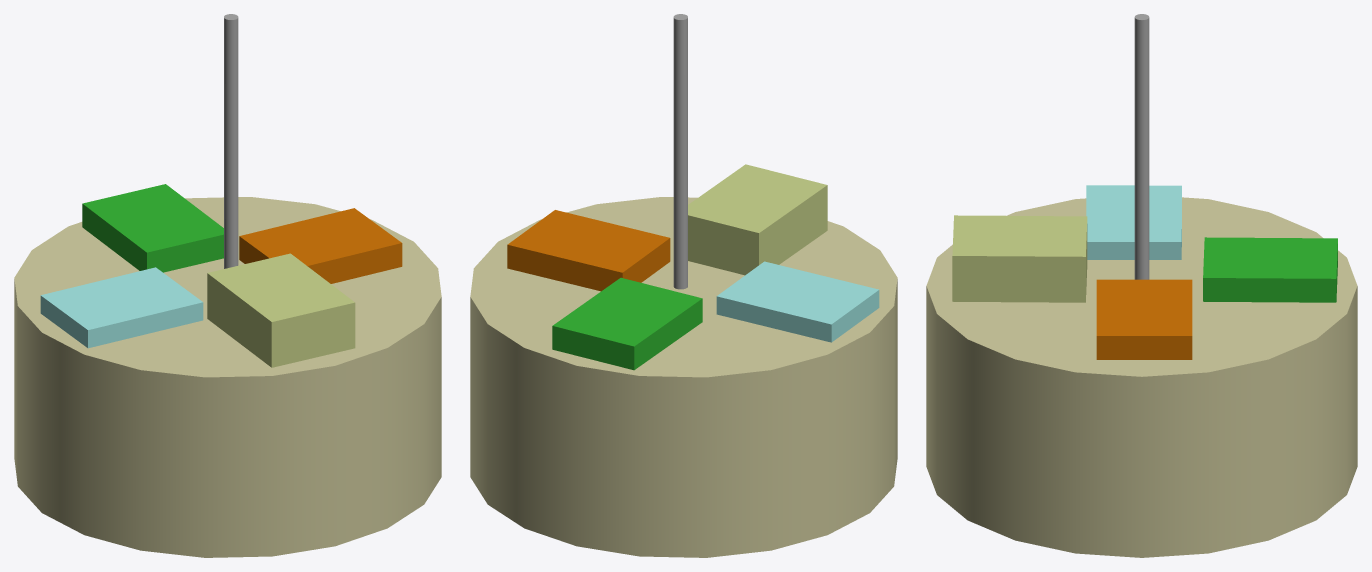
The model's file is Clothing Table 1.fbx.
The picture shows the model from 3 angles, left to right: view 1: azimuth 30°, elevation 25°; view 2: azimuth 150°, elevation 25°; view 3: azimuth 270°, elevation 25°; orthographic projection.
Visible parts, largest first — view 1: etale_sirculaire_vetement, pCube26, pCube24, pCube25, pCube23, pCylinder1; view 2: etale_sirculaire_vetement, pCube26, pCube24, pCube23, pCube25, pCylinder1; view 3: etale_sirculaire_vetement, pCube26, pCube24, pCube23, pCube25, pCylinder1.
Boxes of the visible parts, x1,y1,x2,y2 form: etale_sirculaire_vetement: [14, 197, 441, 557]; pCube26: [207, 253, 355, 367]; pCube24: [82, 184, 223, 272]; pCube25: [40, 267, 203, 348]; pCube23: [239, 208, 402, 283]; pCylinder1: [224, 14, 238, 268]; etale_sirculaire_vetement: [470, 197, 897, 557]; pCube26: [688, 164, 827, 275]; pCube24: [552, 277, 702, 370]; pCube23: [507, 210, 670, 291]; pCube25: [716, 261, 879, 342]; pCylinder1: [673, 14, 687, 289]; etale_sirculaire_vetement: [926, 197, 1357, 557]; pCube26: [952, 215, 1087, 302]; pCube24: [1203, 237, 1337, 302]; pCube23: [1096, 279, 1192, 359]; pCube25: [1086, 185, 1181, 259]; pCylinder1: [1134, 14, 1149, 279].
Bounding box in the file's own units: 1.73 × 2 × 1.73.
